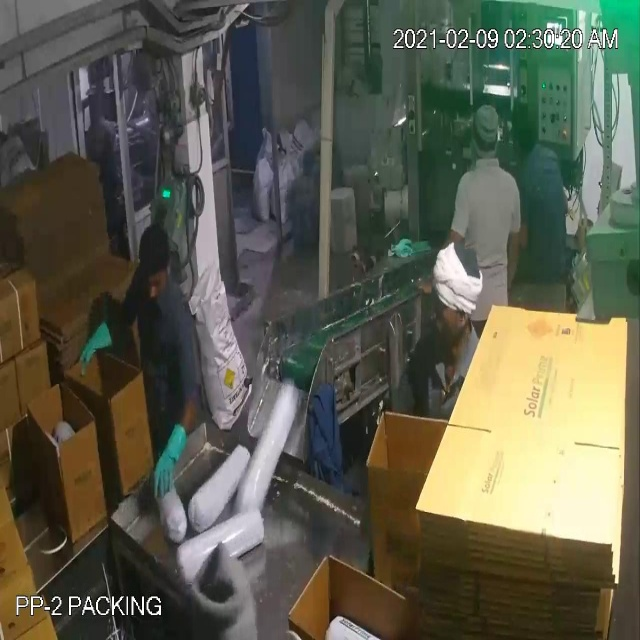Guantes: (154, 409, 190, 506), (72, 316, 119, 381)
